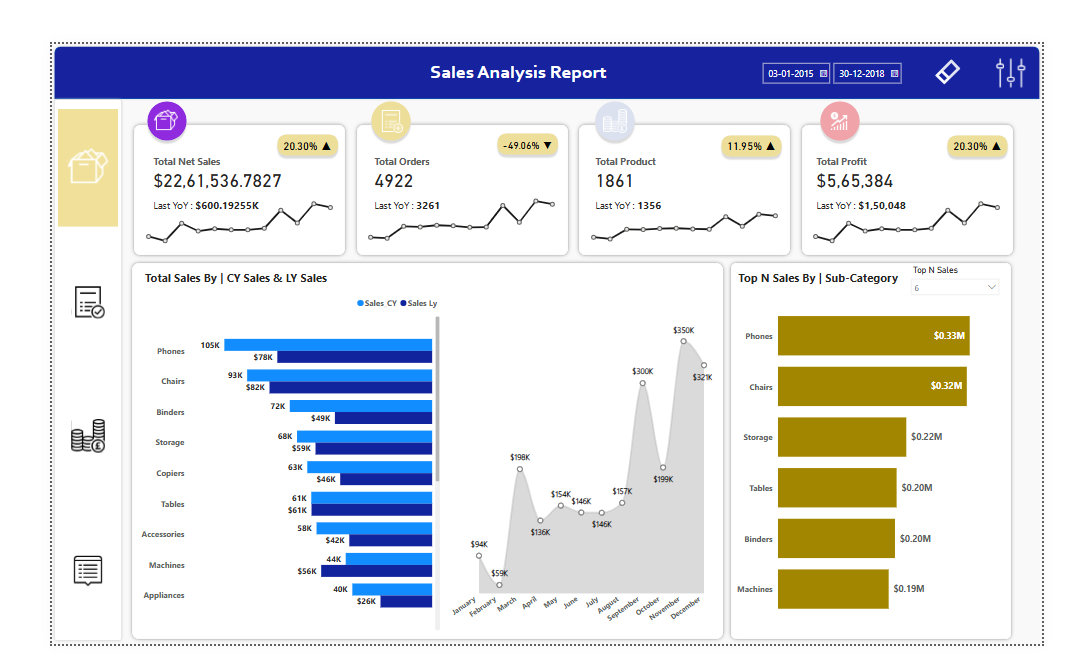

This screenshot's page, from the dashboard's own definition file:
{"tool":"powerbi","page":{"name":"Sales","canvas":[1650,1000],"ordinal":0},"visuals":[{"type":"shape","box":[0,0,1650,95.7],"z":0},{"type":"shape","box":[129.4,128.6,365,230],"z":1000},{"type":"shape","box":[872.3,128.6,365,230],"z":2000},{"type":"shape","box":[1243.7,128.6,365,230],"z":3000},{"type":"shape","box":[500.8,128.6,365,230],"z":4000},{"type":"shape","box":[151.4,88.6,80,80],"z":5000},{"type":"shape","box":[1272.8,88.6,80,80],"z":6000},{"type":"shape","box":[899,88.6,80,80],"z":7000},{"type":"shape","box":[525.2,88.6,80,80],"z":8000},{"type":"shape","box":[368.6,142.9,115.7,50],"z":9000},{"type":"shape","box":[734.3,141.4,115.7,50],"z":10000},{"type":"shape","box":[1108.6,144.3,115,50],"z":11000},{"type":"shape","box":[1485.7,144.3,115,50],"z":12000},{"type":"textbox","box":[595.7,21.4,364.3,50],"z":13000},{"type":"image","box":[165.7,102.9,50,50],"z":14000},{"type":"image","box":[539.5,102.9,50,50],"z":15000},{"type":"image","box":[913.3,102.9,50,50],"z":16000},{"type":"image","box":[1287.1,102.9,50,50],"z":17000},{"type":"lineChart","fields":{"Y":["All Measure.Total Product Sales"],"Category":["DimDate.Date.Variation.Date Hierarchy.Month"]},"box":[144.3,242.5,335,105],"z":18000},{"type":"lineChart","fields":{"Y":["All Measure.Total Orders"],"Category":["DimDate.Date.Variation.Date Hierarchy.Month"]},"box":[515.2,242.5,335,105],"z":19000},{"type":"lineChart","fields":{"Y":["All Measure.Total Product"],"Category":["DimDate.Date.Variation.Date Hierarchy.Month"]},"box":[886.2,242.5,335,105],"z":20000},{"type":"lineChart","fields":{"Category":["DimDate.Date.Variation.Date Hierarchy.Month"],"Y":["All Measure.Total Profit"]},"box":[1257.1,242.5,335,105],"z":21000},{"type":"card","fields":{"Values":["All Measure.Sales Growth"]},"box":[378.6,145.7,95.7,50],"z":22000},{"type":"cardVisual","fields":{"Data":["All Measure.Total Net Sales"]},"box":[151.4,167.1,250,120],"z":23000},{"type":"cardVisual","fields":{"Data":["All Measure.Total Product"]},"box":[888.6,167.1,250,120],"z":24000},{"type":"cardVisual","fields":{"Data":["All Measure.Total Profit"]},"box":[1257.1,167.1,250,120],"z":25000},{"type":"cardVisual","fields":{"Data":["All Measure.Total Orders"]},"box":[520,167.1,250,120],"z":26000},{"type":"card","fields":{"Values":["All Measure.YoY % Orders"]},"box":[744.3,145.7,95.7,50],"z":27000},{"type":"card","fields":{"Values":["All Measure.YoY % Products"]},"box":[1118.6,145.7,95.7,50],"z":28000},{"type":"card","fields":{"Values":["All Measure.YoY % Profit"]},"box":[1494.3,145.7,95.7,50],"z":29000},{"type":"shape","box":[126.7,358.6,998.6,640],"z":30000},{"type":"shape","box":[1125.2,358.6,480,640],"z":31000},{"type":"clusteredBarChart","fields":{"Category":["Sales_Data.Sub-Category"],"Y":["All Measure.Sales_CY","All Measure.Sales Ly"]},"box":[140.9,411.4,510,571.4],"z":32000},{"type":"slicer","fields":{"Values":["TopN_Sales.TopN_Sales"]},"box":[1422.4,362.9,167.1,64.3],"z":33000},{"type":"lineChart","fields":{"Category":["DimDate.Date.Variation.Date Hierarchy.Month"],"Y":["All Measure.Total Net Sales"]},"box":[659.5,411.4,445.7,571.4],"z":34000},{"type":"clusteredBarChart","fields":{"Category":["Sales_Data.Sub-Category"],"Y":["All Measure.Total Net Sales"]},"box":[1135.2,407.1,454.3,575.7],"z":35000},{"type":"textbox","box":[1133.8,371.4,287.1,40],"z":36000},{"type":"textbox","box":[132.4,371.4,350,40],"z":37000},{"type":"slicer","fields":{"Values":["DimDate.Date"]},"box":[1172,22,256,50],"z":38000},{"type":"actionButton","box":[1460,22,66,50],"z":39000},{"type":"shape","box":[0,88.6,120,910],"z":40000},{"type":"actionButton","title":"Filter Button","box":[1560,18,76,60],"z":42000},{"type":"actionButton","box":[10,108.4,100,196],"z":44504},{"type":"actionButton","box":[10,331.7,100,196],"z":45004},{"type":"actionButton","box":[10,555.1,100,196],"z":45504},{"type":"actionButton","box":[10,778.4,100,196],"z":46004}]}

Visuals, with their boxes in screenshot pixels (x1, y1, x2, y2), scaled from the page's 1650x1000 canvas onto the 1084x666 screenshot:
shape: (0, 0, 1083, 64)
shape: (85, 86, 325, 239)
shape: (573, 86, 813, 239)
shape: (817, 86, 1057, 239)
shape: (329, 86, 569, 239)
shape: (99, 59, 152, 112)
shape: (836, 59, 889, 112)
shape: (591, 59, 643, 112)
shape: (345, 59, 398, 112)
shape: (242, 95, 318, 128)
shape: (482, 94, 558, 127)
shape: (728, 96, 804, 129)
shape: (976, 96, 1052, 129)
textbox: (391, 14, 631, 48)
image: (109, 69, 142, 102)
image: (354, 69, 387, 102)
image: (600, 69, 633, 102)
image: (846, 69, 878, 102)
lineChart - All Measure.Total Product Sales x DimDate.Date.Variation.Date Hierarchy.Month: (95, 162, 315, 231)
lineChart - All Measure.Total Orders x DimDate.Date.Variation.Date Hierarchy.Month: (338, 162, 559, 231)
lineChart - All Measure.Total Product x DimDate.Date.Variation.Date Hierarchy.Month: (582, 162, 802, 231)
lineChart - DimDate.Date.Variation.Date Hierarchy.Month x All Measure.Total Profit: (826, 162, 1046, 231)
card - All Measure.Sales Growth: (249, 97, 312, 130)
cardVisual - All Measure.Total Net Sales: (99, 111, 264, 191)
cardVisual - All Measure.Total Product: (584, 111, 748, 191)
cardVisual - All Measure.Total Profit: (826, 111, 990, 191)
cardVisual - All Measure.Total Orders: (342, 111, 506, 191)
card - All Measure.YoY % Orders: (489, 97, 552, 130)
card - All Measure.YoY % Products: (735, 97, 798, 130)
card - All Measure.YoY % Profit: (982, 97, 1045, 130)
shape: (83, 239, 739, 665)
shape: (739, 239, 1055, 665)
clusteredBarChart - Sales_Data.Sub-Category x All Measure.Sales_CY: (93, 274, 428, 655)
slicer - TopN_Sales.TopN_Sales: (934, 242, 1044, 285)
lineChart - DimDate.Date.Variation.Date Hierarchy.Month x All Measure.Total Net Sales: (433, 274, 726, 655)
clusteredBarChart - Sales_Data.Sub-Category x All Measure.Total Net Sales: (746, 271, 1044, 655)
textbox: (745, 247, 933, 274)
textbox: (87, 247, 317, 274)
slicer - DimDate.Date: (770, 15, 938, 48)
actionButton: (959, 15, 1003, 48)
shape: (0, 59, 79, 665)
"Filter Button" actionButton: (1025, 12, 1075, 52)
actionButton: (7, 72, 72, 203)
actionButton: (7, 221, 72, 351)
actionButton: (7, 370, 72, 500)
actionButton: (7, 518, 72, 649)
